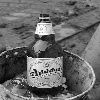beer: (18, 12, 70, 93)
